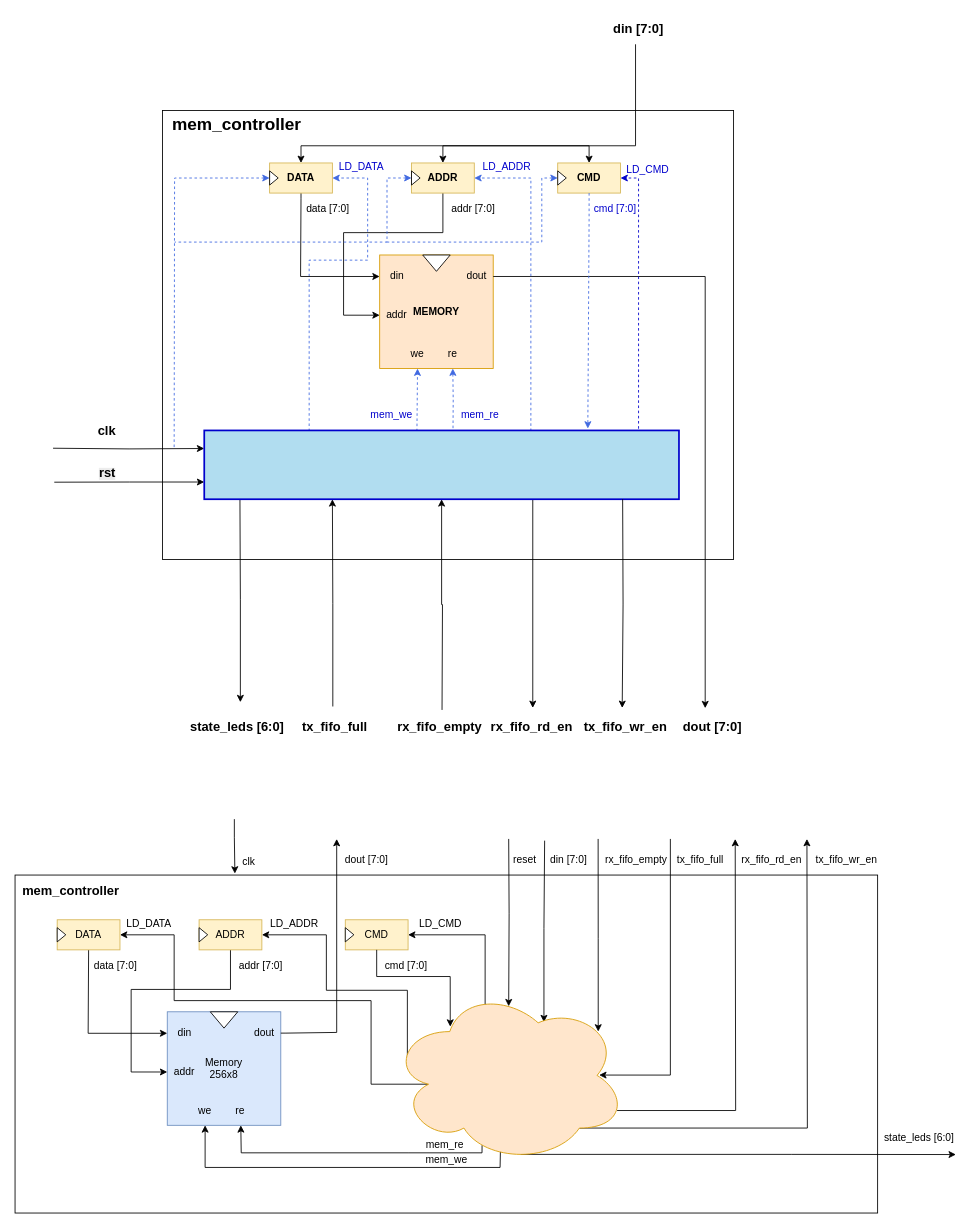
The diagram is 978 pixels wide and 1228 high, and some of its shapes have lost their labels. The shapes that lost their labels are listed below. From the top down, each one's box as (x1, y1, x2, y2) in pixels, then its label:
(203, 429, 679, 500): CONTROLLER
(390, 987, 627, 1163): Controller FSM
